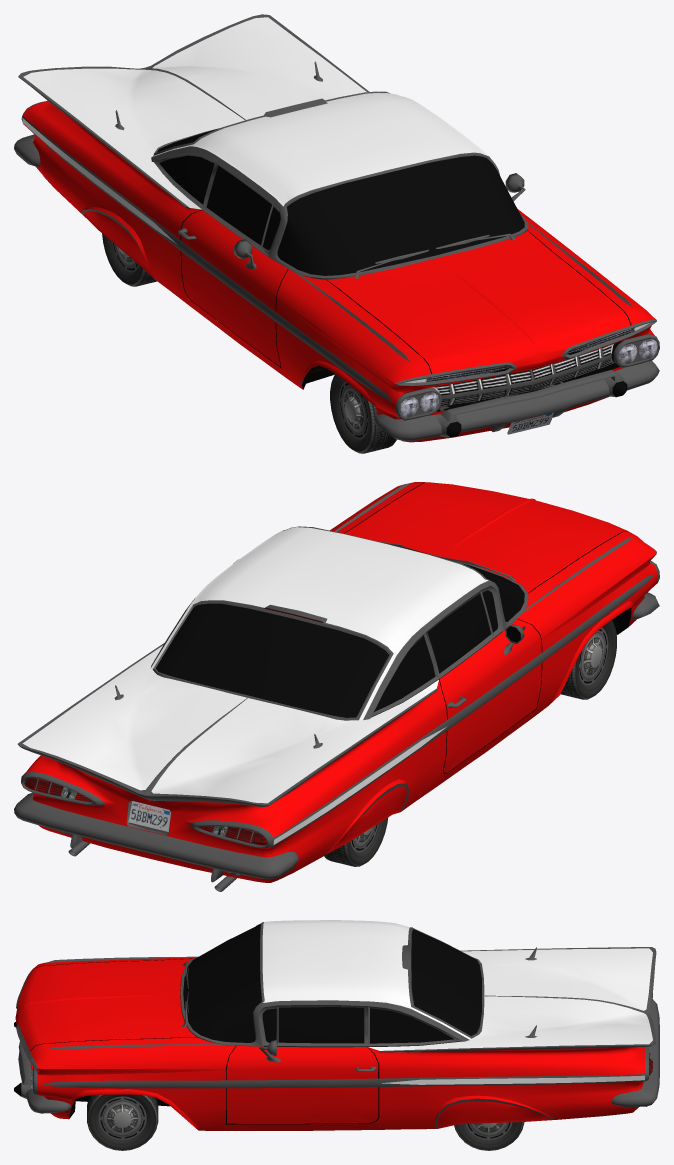
The model's file is chevrolet_impala.FBX.
3 views of the same model, one above another, from view 1: azimuth 30°, elevation 25°; view 2: azimuth 150°, elevation 25°; view 3: azimuth 270°, elevation 25° (orthographic). The views are drawn at different scales.
Visible parts, largest first — view 1: body, body_alt, glass, chrome, bottom_ebala, WL_F_R, WL_R_R, plastic; view 2: body, body_alt, glass, chrome, Plane007, bottom_ebala, WL_F_R, WL_R_R; view 3: body, body_alt, glass, chrome, WL_F_L, WL_R_L, Plane007, plastic, bottom_ebala.
Boxes of the visible parts, x1=… form: body: x1=23, y1=101, x2=656, y2=442; body_alt: x1=22, y1=17, x2=488, y2=244; glass: x1=157, y1=128, x2=524, y2=275; chrome: x1=18, y1=14, x2=659, y2=441; bottom_ebala: x1=43, y1=117, x2=657, y2=434; WL_F_R: x1=330, y1=374, x2=396, y2=453; WL_R_R: x1=102, y1=233, x2=156, y2=286; plastic: x1=180, y1=210, x2=631, y2=437; body: x1=23, y1=482, x2=657, y2=882; body_alt: x1=23, y1=527, x2=488, y2=845; glass: x1=155, y1=545, x2=524, y2=717; chrome: x1=17, y1=483, x2=659, y2=891; Plane007: x1=14, y1=792, x2=298, y2=882; bottom_ebala: x1=24, y1=608, x2=631, y2=881; WL_F_R: x1=561, y1=620, x2=616, y2=699; WL_R_R: x1=324, y1=817, x2=388, y2=866; body: x1=15, y1=957, x2=644, y2=1130; body_alt: x1=262, y1=920, x2=652, y2=1084; glass: x1=183, y1=924, x2=481, y2=1043; chrome: x1=16, y1=922, x2=656, y2=1128; WL_F_L: x1=87, y1=1094, x2=158, y2=1150; WL_R_L: x1=454, y1=1122, x2=524, y2=1150; Plane007: x1=611, y1=999, x2=659, y2=1107; plastic: x1=14, y1=958, x2=379, y2=1124; bottom_ebala: x1=20, y1=994, x2=652, y2=1129.
Size of the model in its own units: 69.68 by 43.8 by 169.
